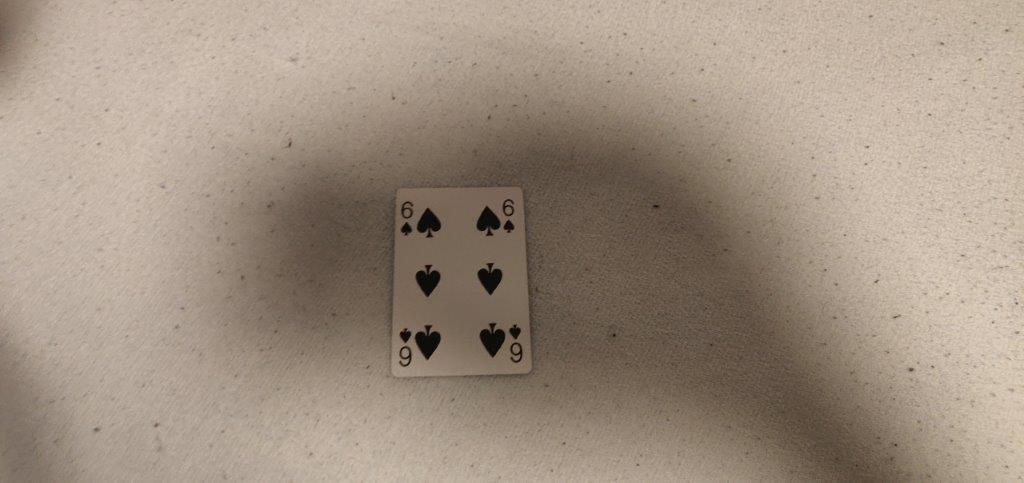6S: (396, 198, 418, 244), (500, 197, 518, 236)
